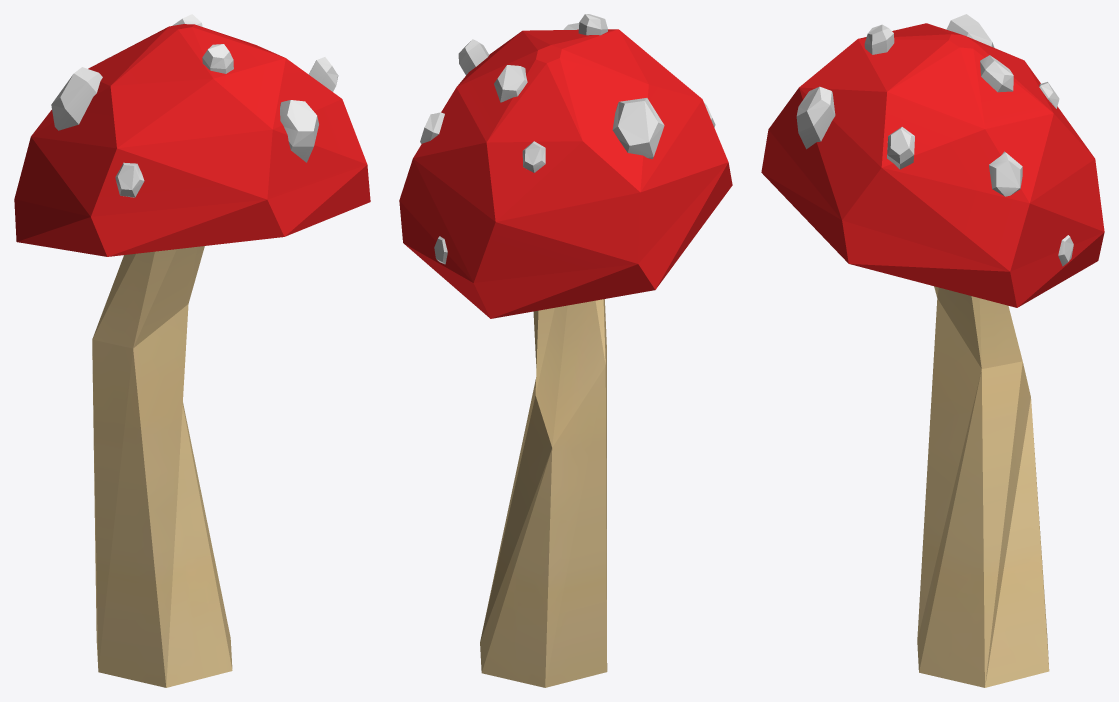
The model's file is mushroom_red.glb.
3 views of the same model, side by side, from view 1: azimuth 30°, elevation 25°; view 2: azimuth 150°, elevation 25°; view 3: azimuth 270°, elevation 25° (orthographic). The views are drawn at different scales.
Parts seen in each view (by area): view 1: mushroom_red; view 2: mushroom_red; view 3: mushroom_red.
Part boxes in pixels (bbox=[...]): mushroom_red: bbox=[14, 14, 370, 687]; mushroom_red: bbox=[399, 14, 732, 687]; mushroom_red: bbox=[761, 14, 1104, 687].
Bounding box in the file's own units: 0.1338 × 0.3 × 0.1483.
1 material, 1 textured.
